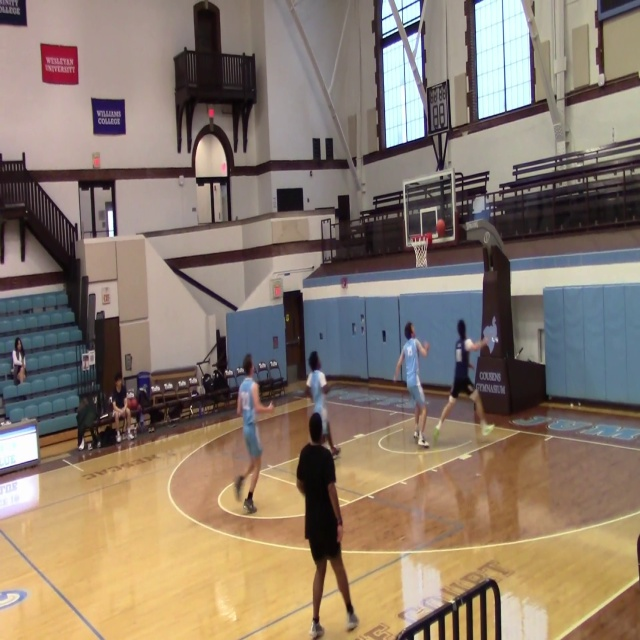Basketball: (436, 219, 445, 233)
